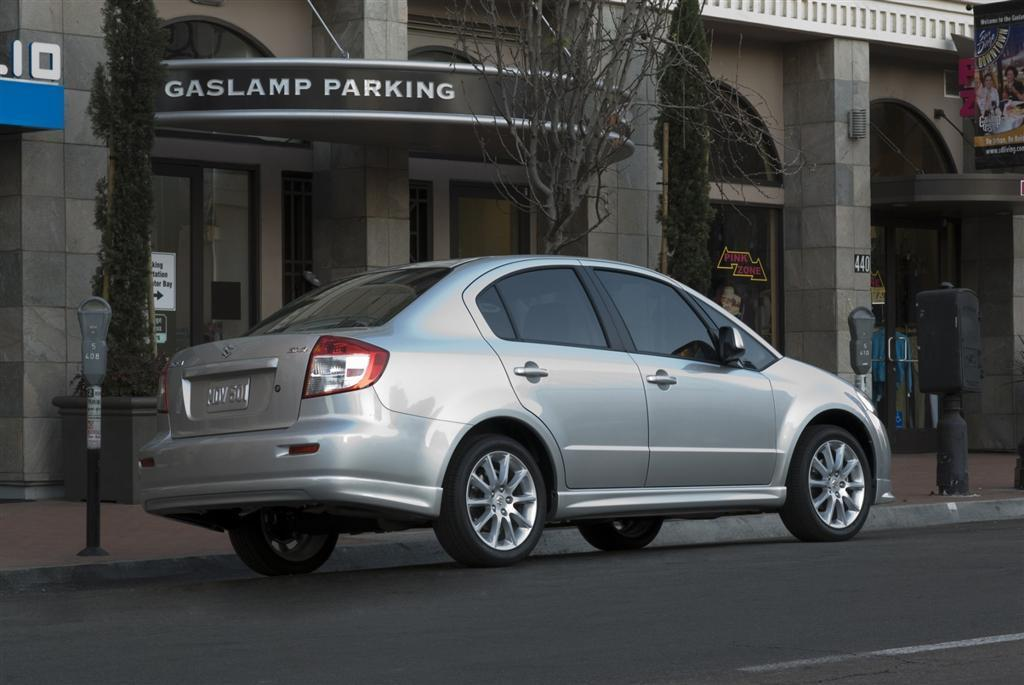suzuki: (214, 336, 240, 363)
